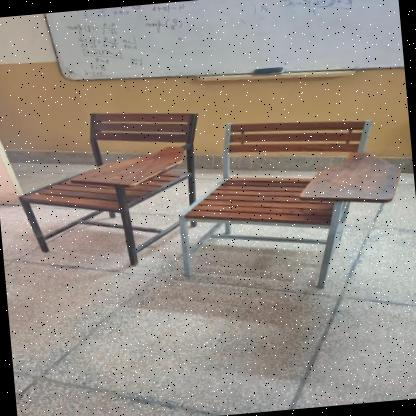chair: (162, 99, 414, 307), (0, 94, 213, 282)
